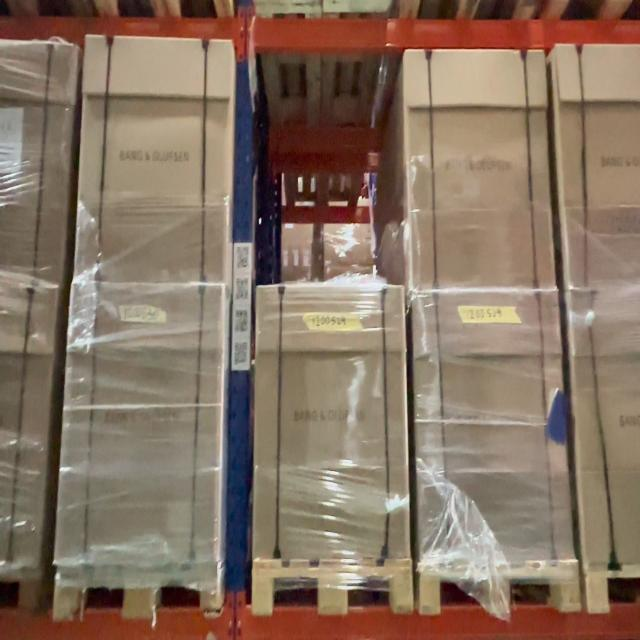box: (57, 279, 223, 558), (414, 295, 573, 559), (256, 289, 409, 558), (73, 39, 231, 275), (405, 53, 553, 288)
